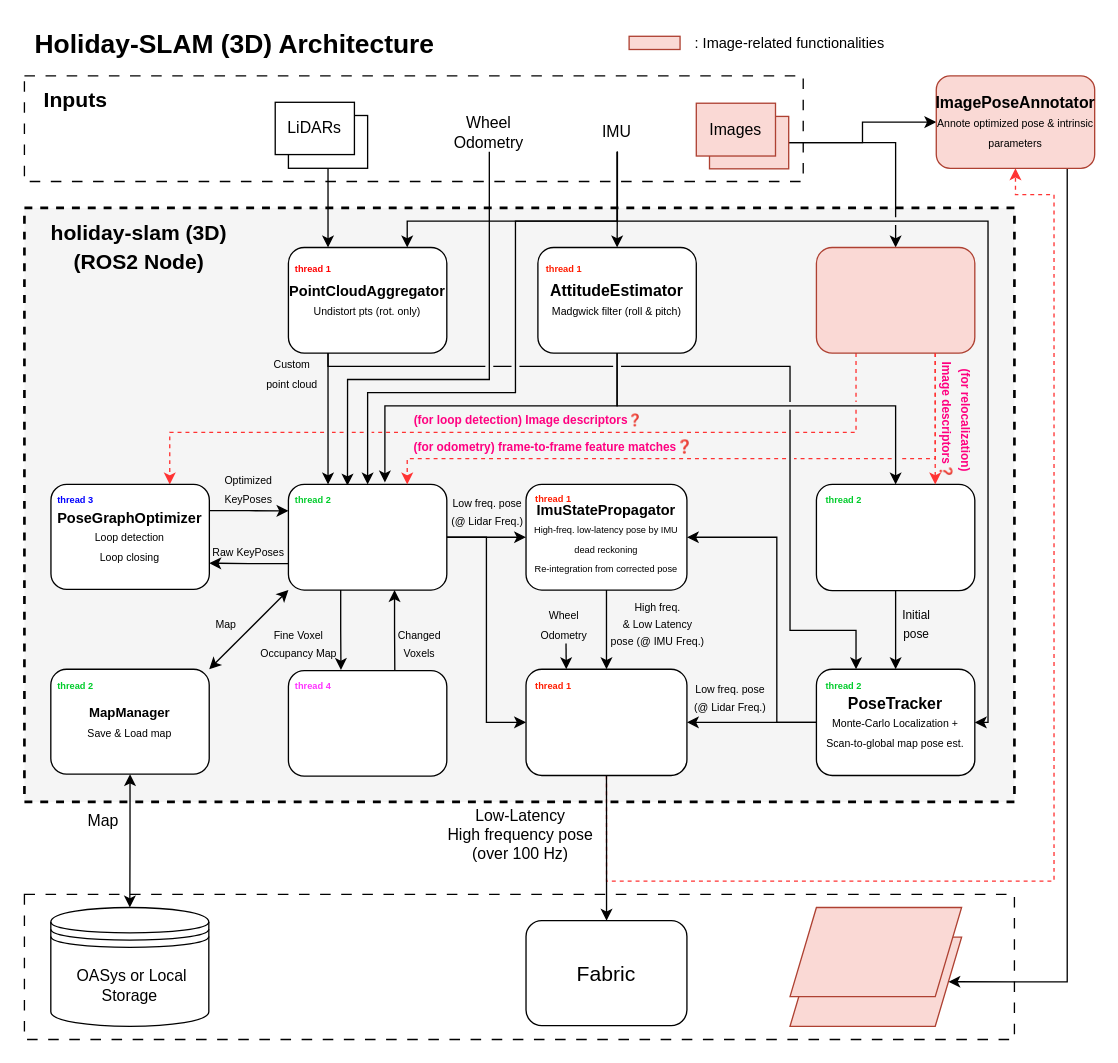
The diagram is 1118 pixels wide and 1063 high, and some of its shapes have lost their labels. Here are the shapes that lost their labels. From the top down, the box of each, then its label:
(815, 246, 975, 353): ImageMatcher LightGlue (?)
(287, 483, 447, 590): LidarInertialOdometer Scan-to-submap pose est. IMU preintegration
(815, 483, 975, 591): Relocalizer Branch & Bound Search on Voxel Occupancy Map
(287, 669, 447, 776): VoxelOccupancyUpdater Raycasting Voxel Occu. map fusion
(525, 668, 687, 776): TransformPublisher Mux all poses
(789, 906, 962, 997): 3DGS Module
